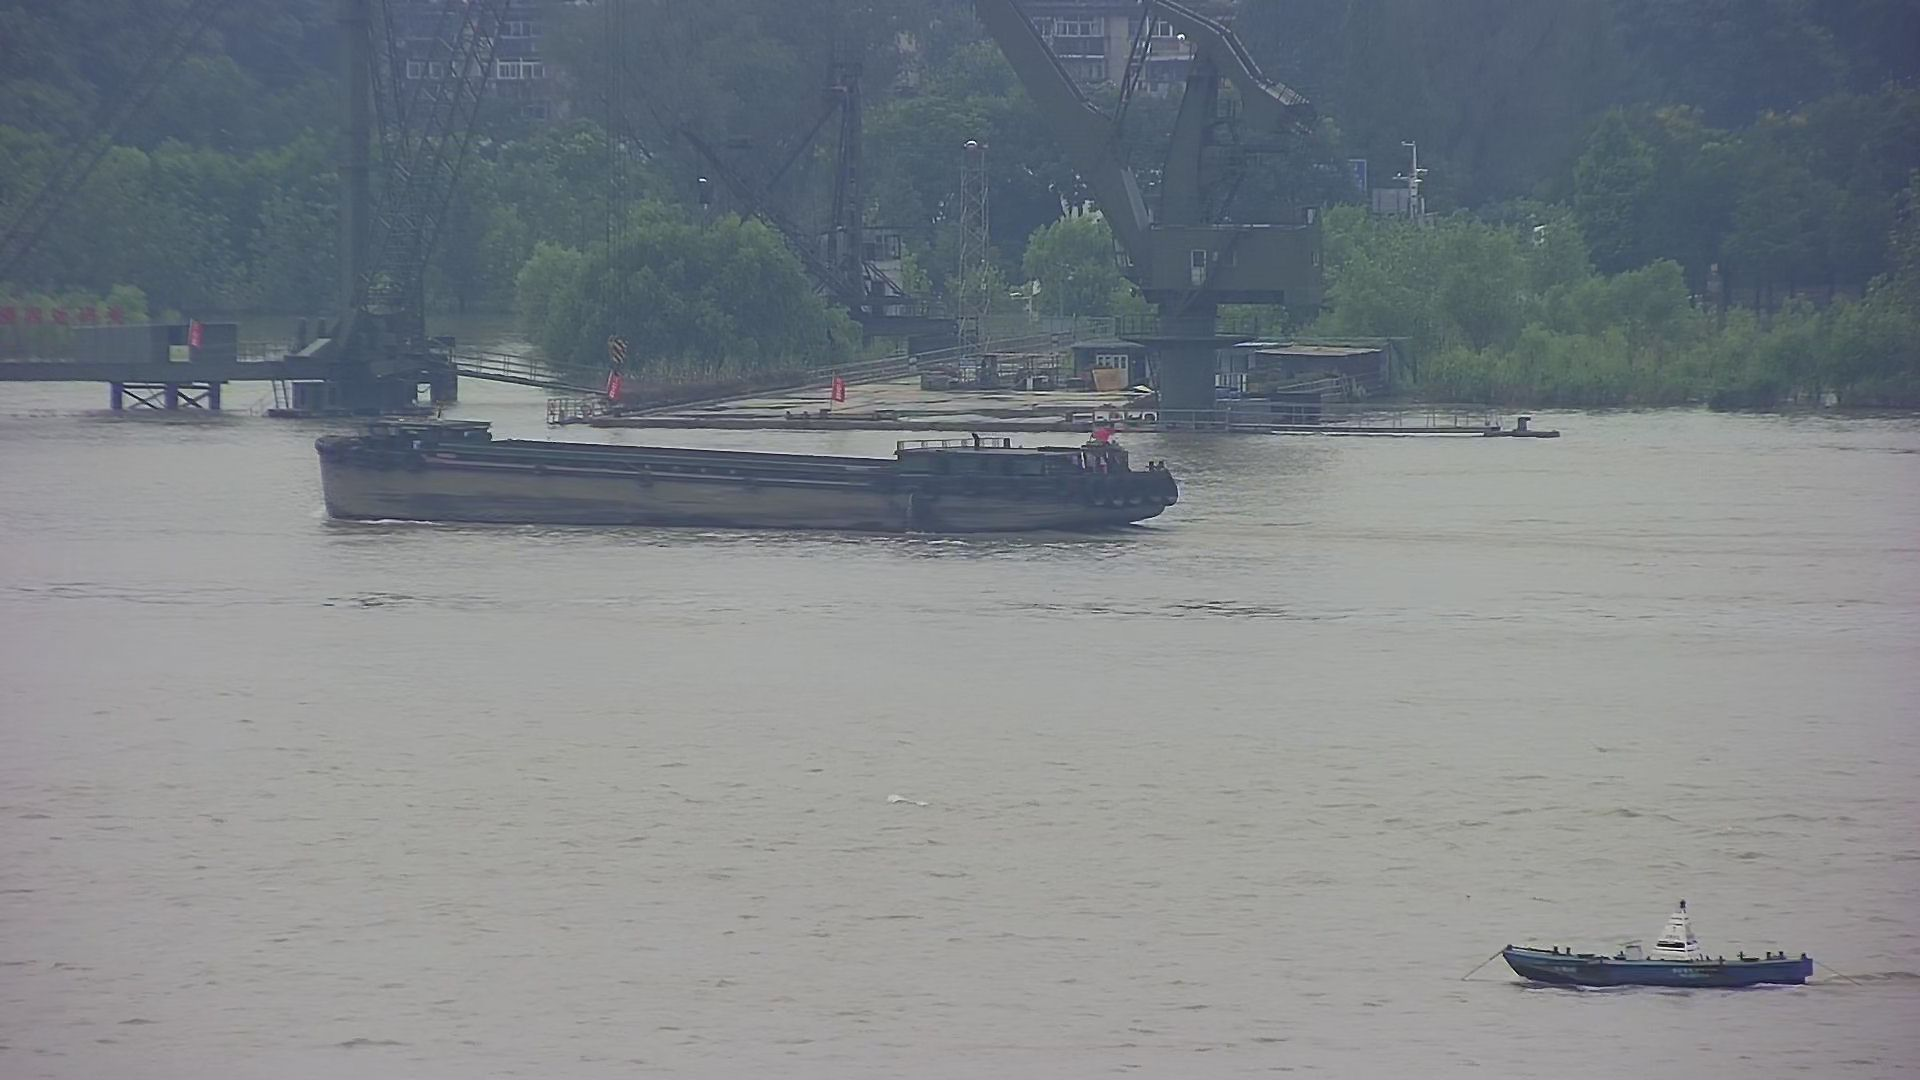boat: (1482, 876, 1825, 1000)
platform: (1, 1, 496, 419)
ship: (301, 404, 1197, 549)
